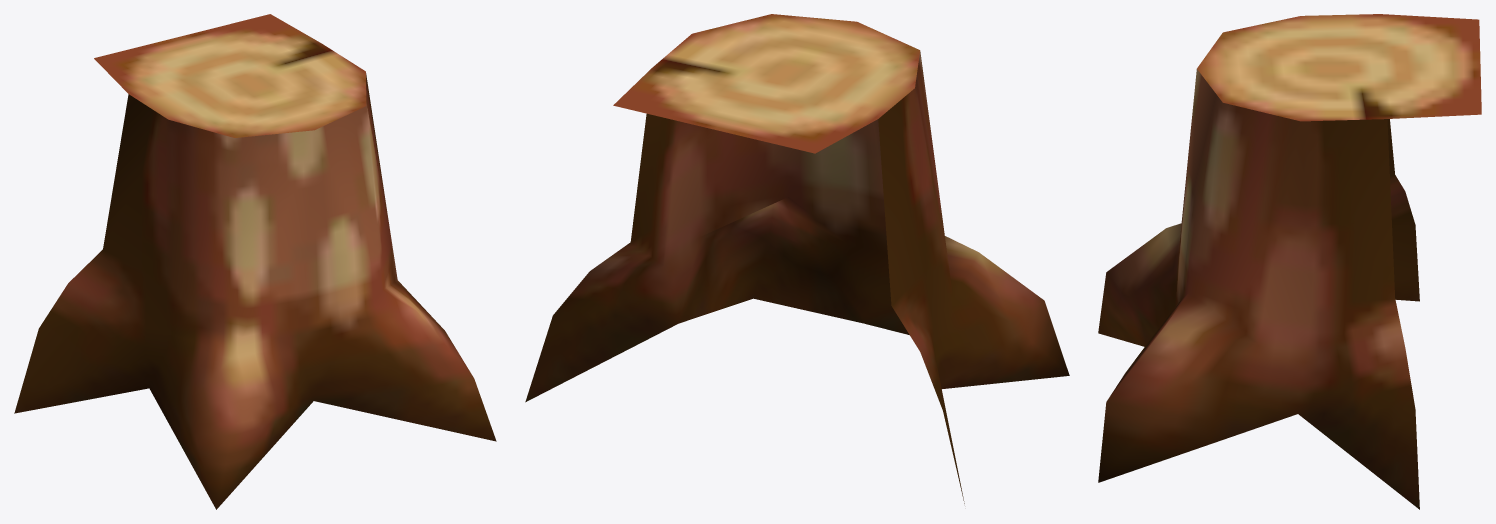
The model's file is fg_treeB_3_b.dae.
3 views of the same model, side by side, from view 1: azimuth 30°, elevation 25°; view 2: azimuth 150°, elevation 25°; view 3: azimuth 270°, elevation 25° (orthographic). The views are drawn at different scales.
Parts seen in each view (by area): view 1: fg_treeB_3_b; view 2: fg_treeB_3_b; view 3: fg_treeB_3_b.
Part boxes in pixels (x1=…): fg_treeB_3_b: x1=14, y1=14, x2=496, y2=509; fg_treeB_3_b: x1=525, y1=14, x2=1069, y2=503; fg_treeB_3_b: x1=1098, y1=14, x2=1481, y2=509.
Bounding box in the file's own units: 24.64 × 18.81 × 19.17.
Materials: 1 (1 with a texture image).
